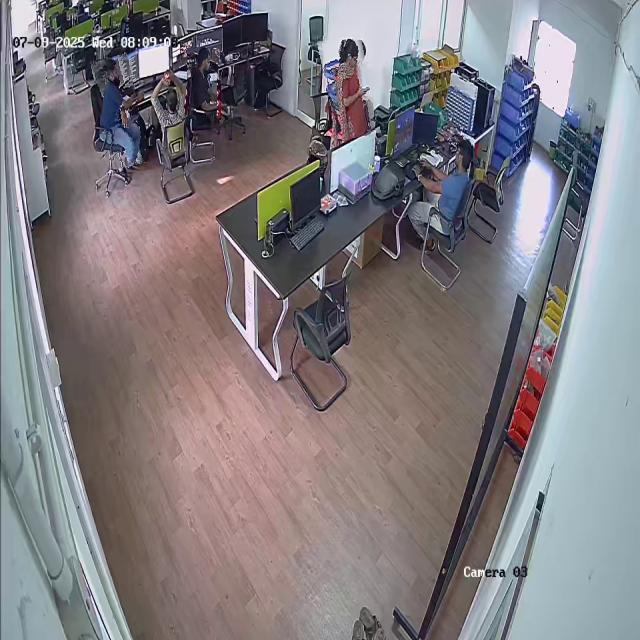person: (322, 35, 376, 140), (96, 55, 144, 168), (421, 137, 473, 227), (186, 47, 218, 117)
